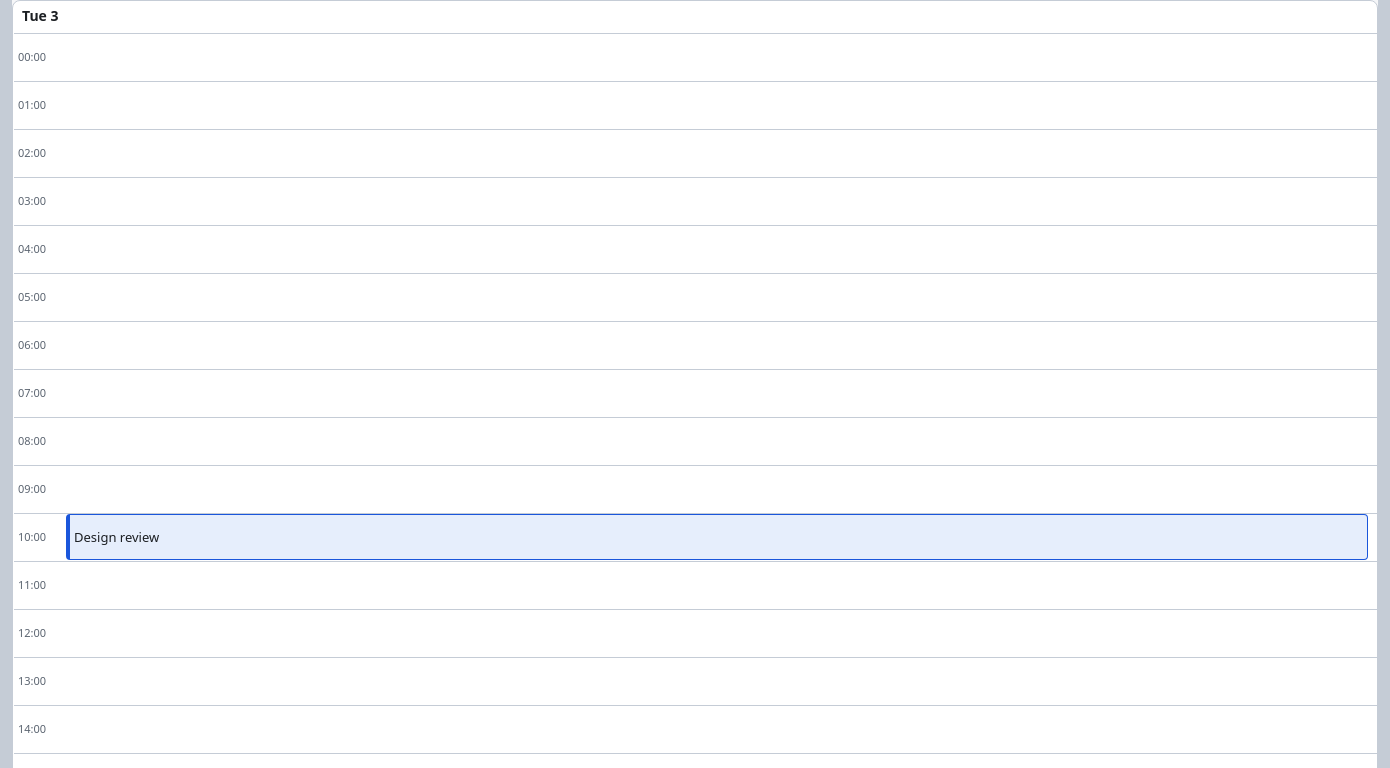
Test: Calendar: changing and deleting an event › opens the form with the values of the event
Click the button with aria-label "Design review," at (117, 537), box [66,514,1368,560]
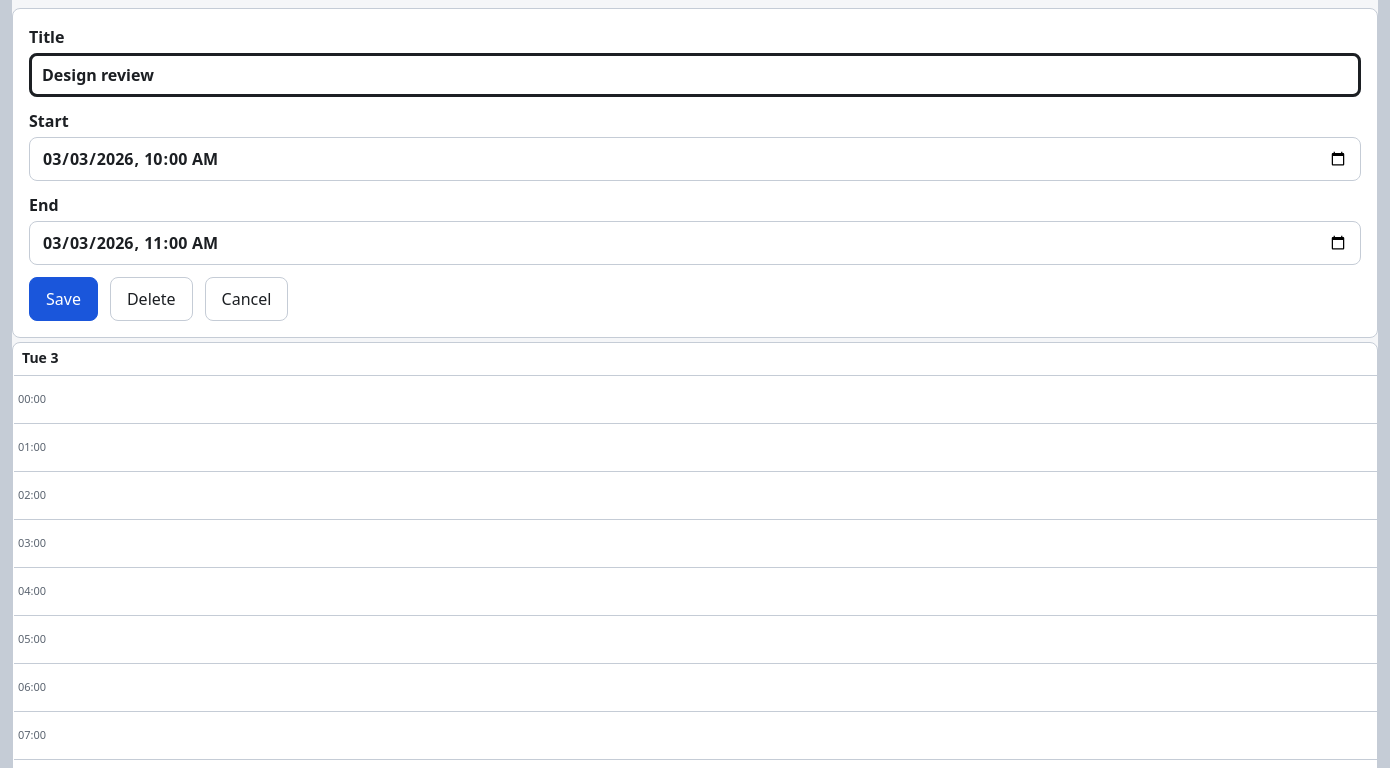
Expected: the form named "Edit event" is shown, [12,8,1378,338]
Expected: the field labelled "Title" holds "Design review", [29,53,1361,97]
Expected: the field labelled "Start" holds "2026-03-03T10:00", [29,137,1361,181]
